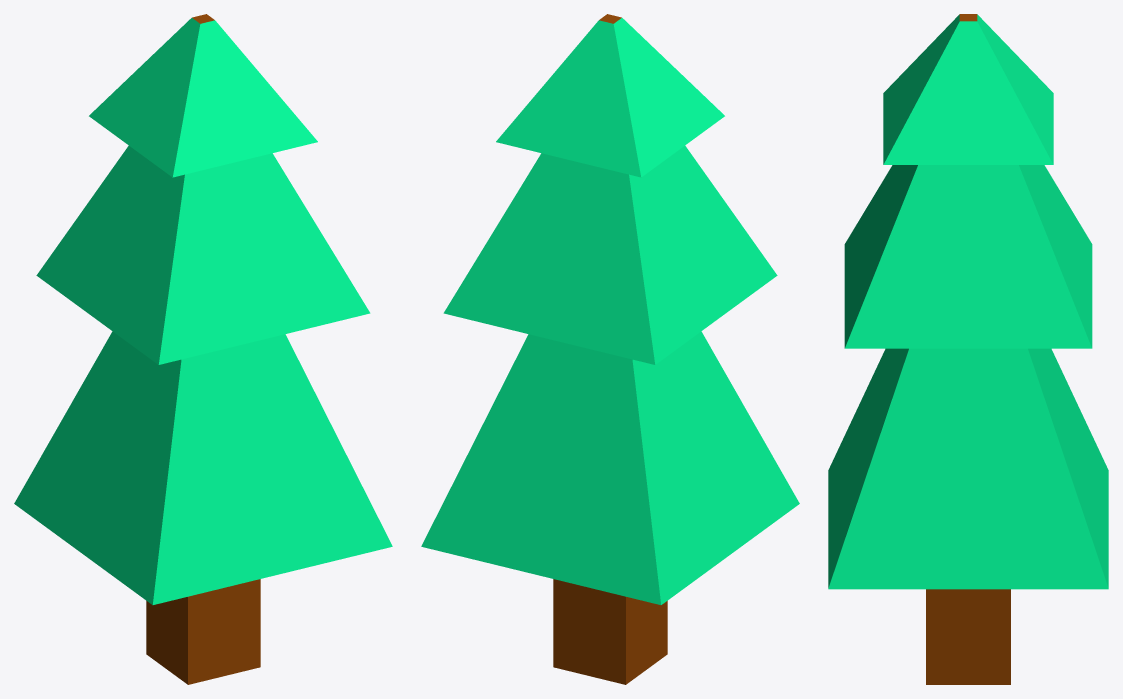
File: elka2.fbx
3 views of the same model, side by side, from view 1: azimuth 30°, elevation 25°; view 2: azimuth 150°, elevation 25°; view 3: azimuth 270°, elevation 25° (orthographic).
Parts seen in each view (by area): view 1: elka.002; view 2: elka.002; view 3: elka.002.
Part boxes in pixels (x1,y1,x2,y2): elka.002: [14, 14, 392, 684]; elka.002: [421, 14, 799, 684]; elka.002: [828, 14, 1108, 684].
Size of the model in its own units: 101 by 258 by 101.
